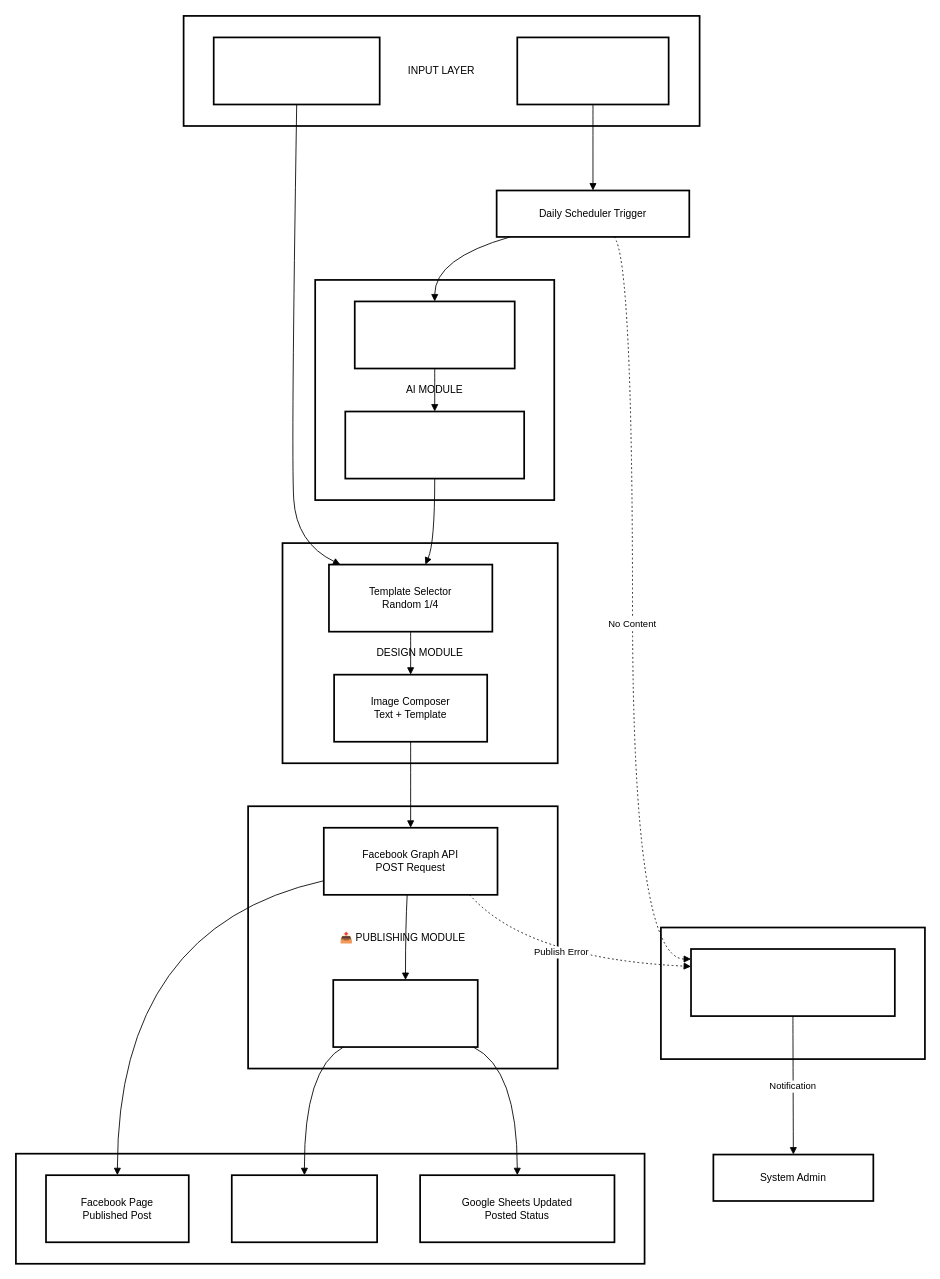
The diagram is 940 pixels wide and 1279 high, and some of its shapes have lost their labels. Here are the shapes that lost their labels. From the top down, the centre of each, then its label:
At [296,70]: "Stored Templates 4 Visual Templates".
At [592,70]: "Google Sheets Content Planner".
At [434,334]: "AI Text Generator LLM-based".
At [434,444]: "Title/Body/Hashtags Structured Output".
At [792,982]: "Email Alert System Missing Content/Failures".
At [405,1013]: "Posting Logger Status Tracking".
At [304,1208]: "Poster Archive Date-organized".
